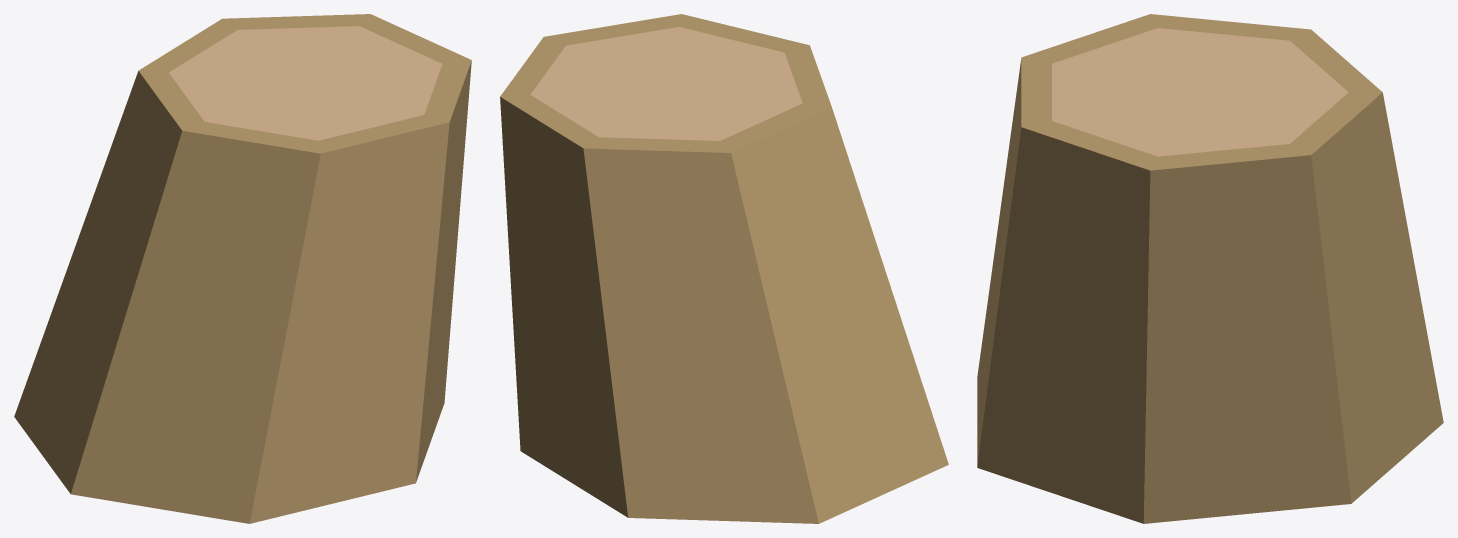
The model's file is Acacia_Stump_03.fbx.
The picture shows the model from 3 angles, left to right: view 1: azimuth 30°, elevation 25°; view 2: azimuth 150°, elevation 25°; view 3: azimuth 270°, elevation 25°; orthographic projection. The views are drawn at different scales.
Parts seen in each view (by area): view 1: Acacia_Stump_03; view 2: Acacia_Stump_03; view 3: Acacia_Stump_03.
Part boxes in pixels (x1,y1,x2,y2): Acacia_Stump_03: (14, 14, 471, 523); Acacia_Stump_03: (500, 14, 948, 523); Acacia_Stump_03: (977, 14, 1443, 523).
Size of the model in its own units: 119 by 94.19 by 108.
